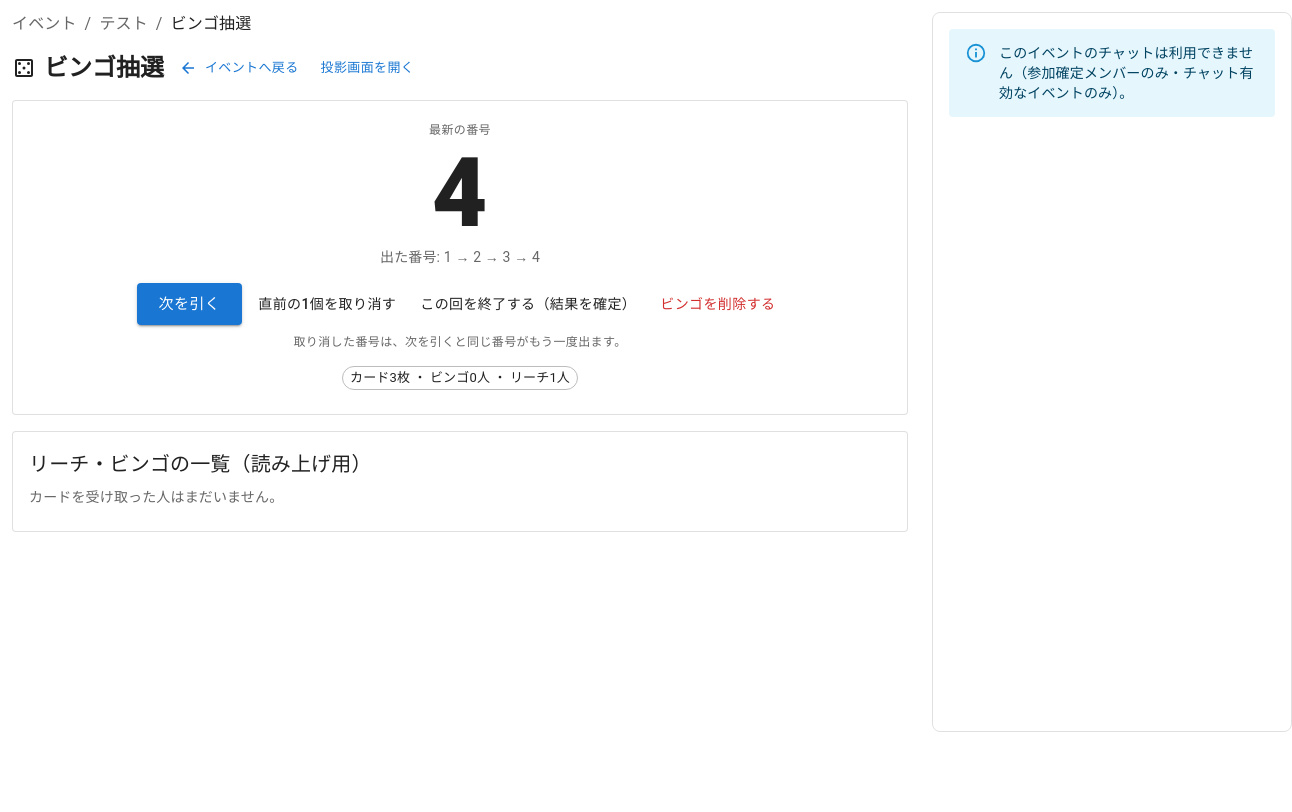
ビンゴ抽選コントロール (#436) › draw 直後に「ビンゴ n人」も応答の値で更新される（#436 実機: 人数が増えない）
Click the button "次を引く".
click(189, 304)  # box [136,283,242,325]
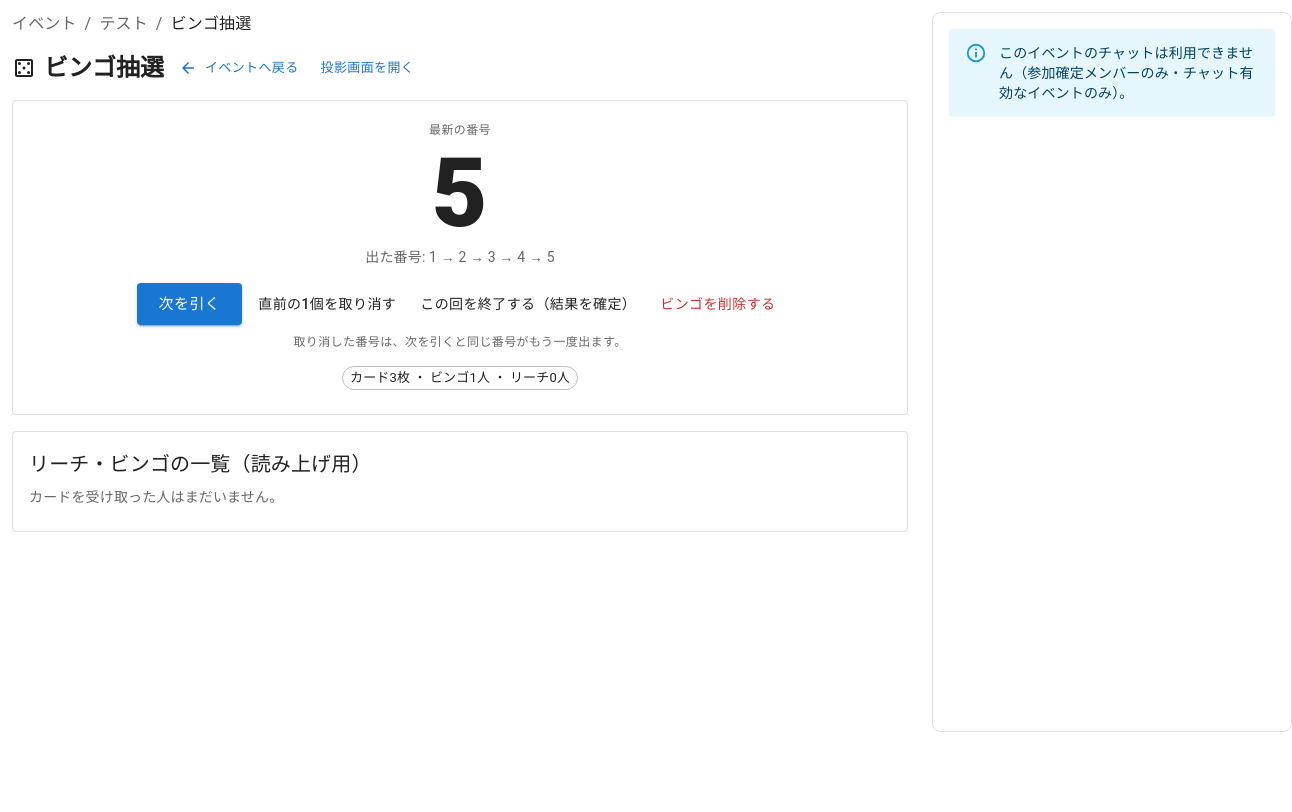
Expected: the text "カード3枚 ・ ビンゴ1人 ・ リーチ0人" is shown, [343,368,577,387]
